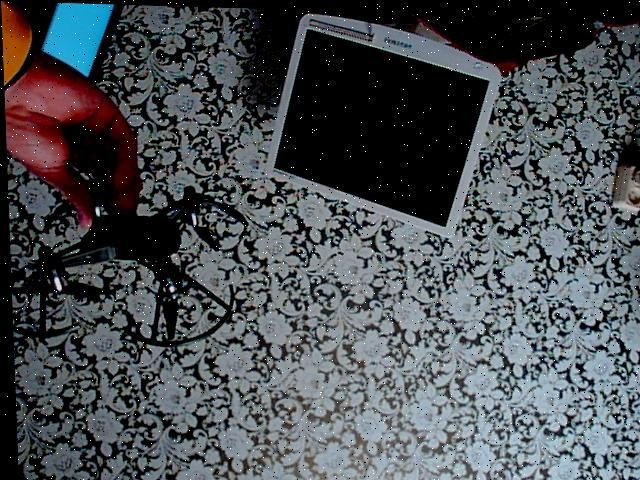drone: (5, 156, 274, 360)
